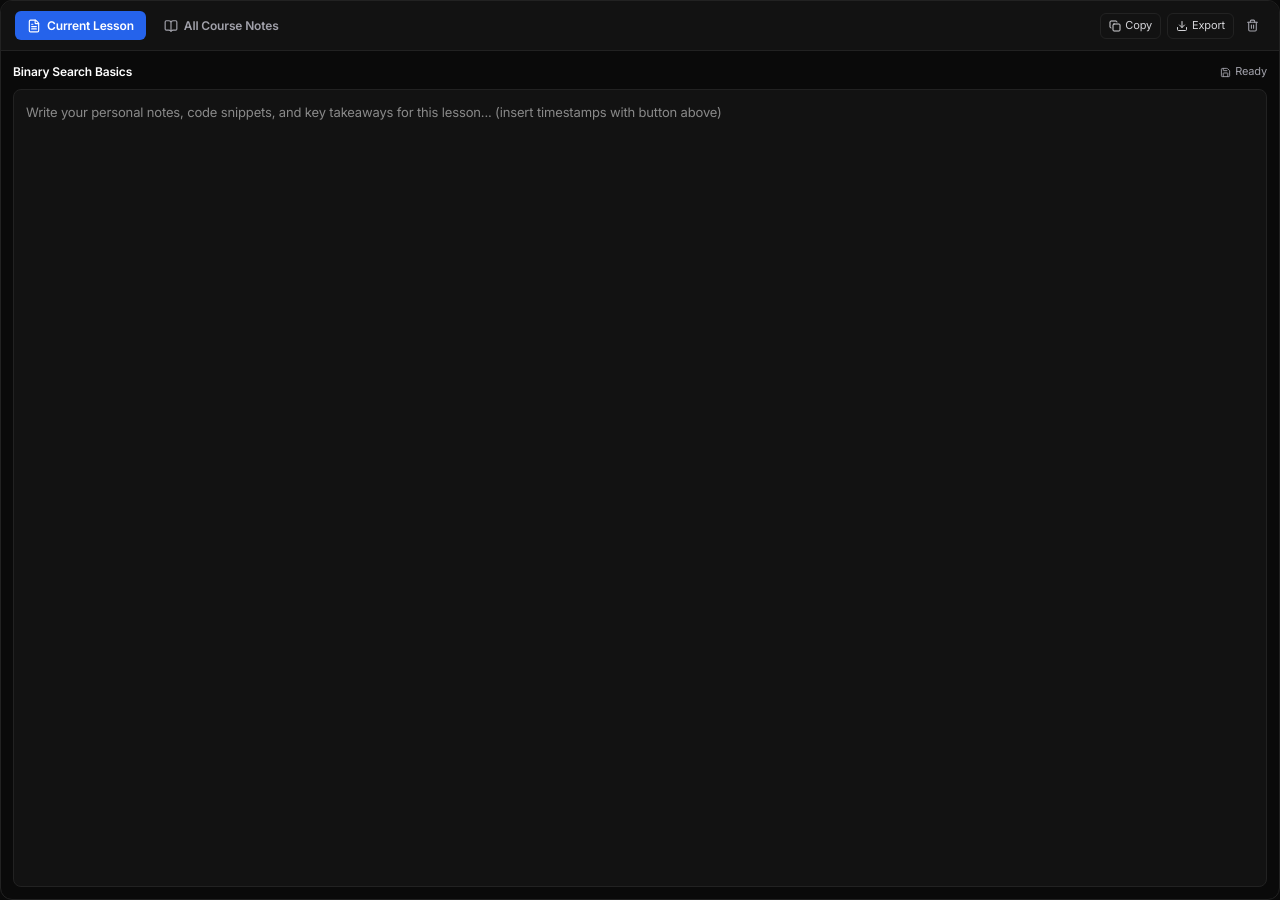
Scenario: LessonNotesPanel › switches to All Course Notes tab and handles empty state
Click the button "All Course Notes": (221, 26) [152,11,291,40]
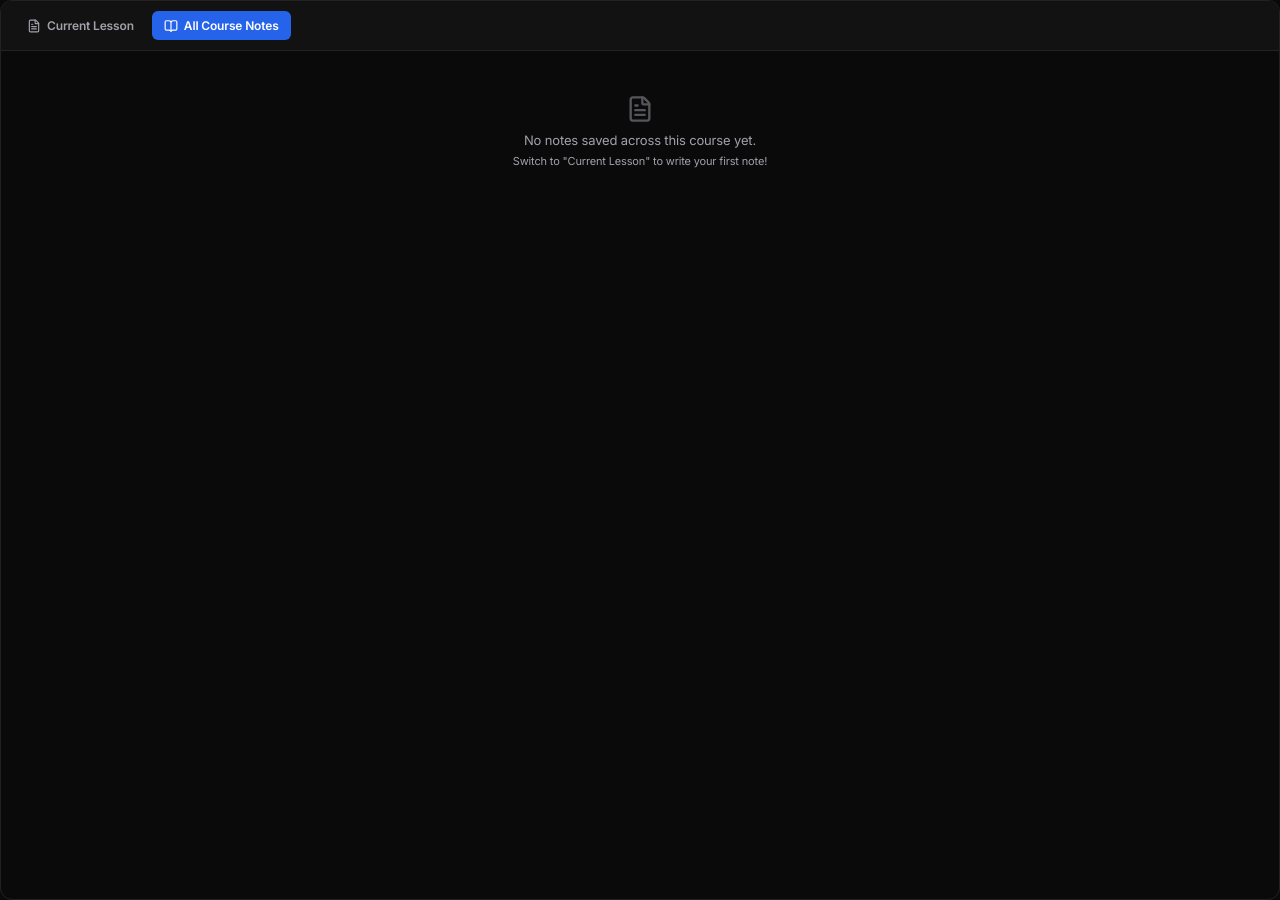
Now the text "No notes saved across this course yet." is shown, box [524,132,756,148]
